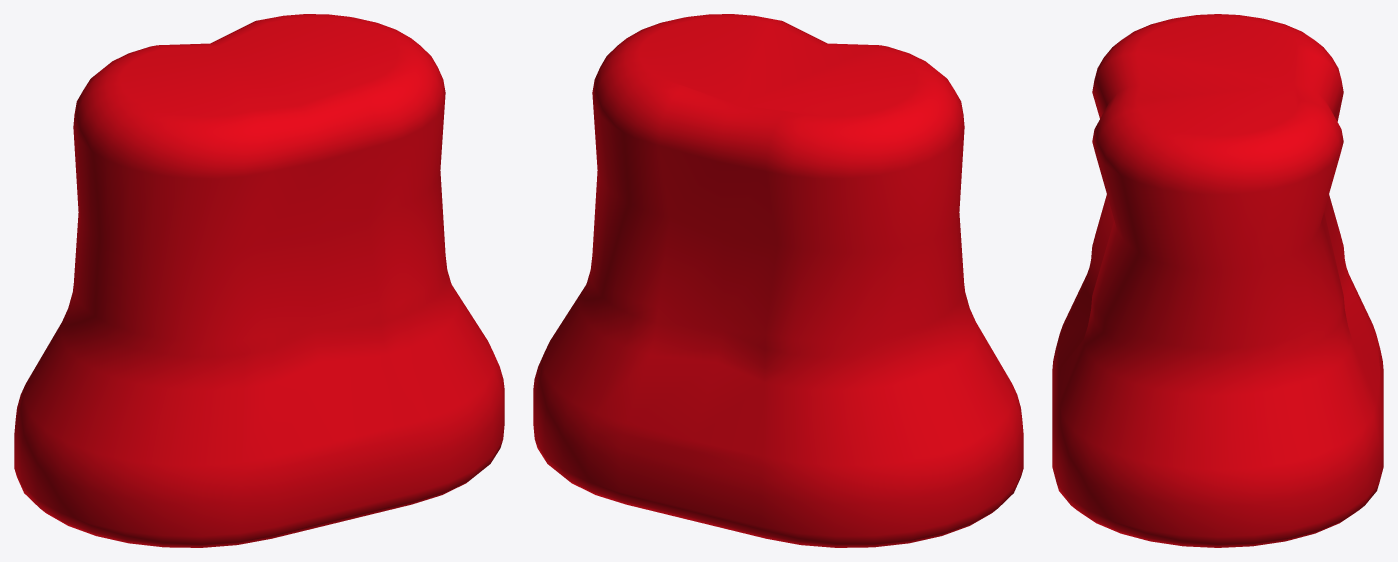
Rendered from PluckerForTransperncy.fbx.
3 views of the same model, side by side, from view 1: azimuth 30°, elevation 25°; view 2: azimuth 150°, elevation 25°; view 3: azimuth 270°, elevation 25° (orthographic). The views are drawn at different scales.
Parts seen in each view (by area): view 1: Sucker Tool; view 2: Sucker Tool; view 3: Sucker Tool.
Boxes of the visible parts, box(x1,y1,x2,y2) form: Sucker Tool: box(14, 14, 504, 547); Sucker Tool: box(533, 14, 1023, 547); Sucker Tool: box(1052, 14, 1383, 547).
Size of the model in its own units: 1.42 by 1.21 by 0.9717.
